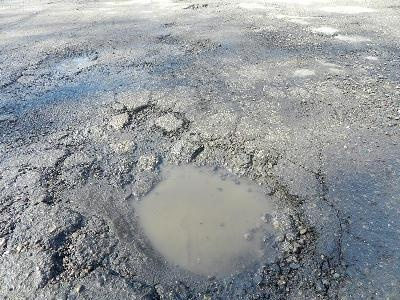pothole: (44, 131, 319, 298), (119, 101, 164, 131)
